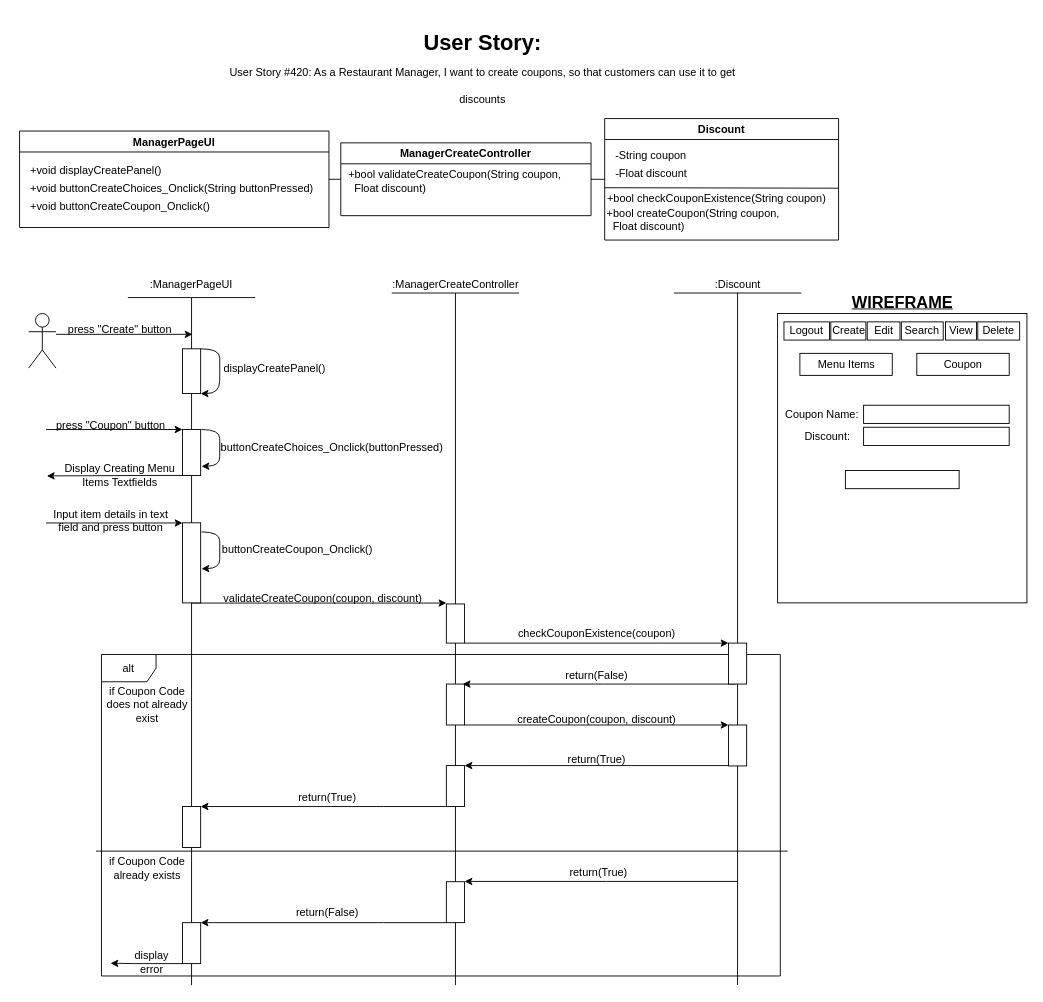
This 1043x1002 diagram has some shape labels left out. Here are the shapes that lost their labels. From the top down, the centre of each, then its label:
At point 42,340: "Restaurant Manager".
At point 901,479: "Create Coupon".
